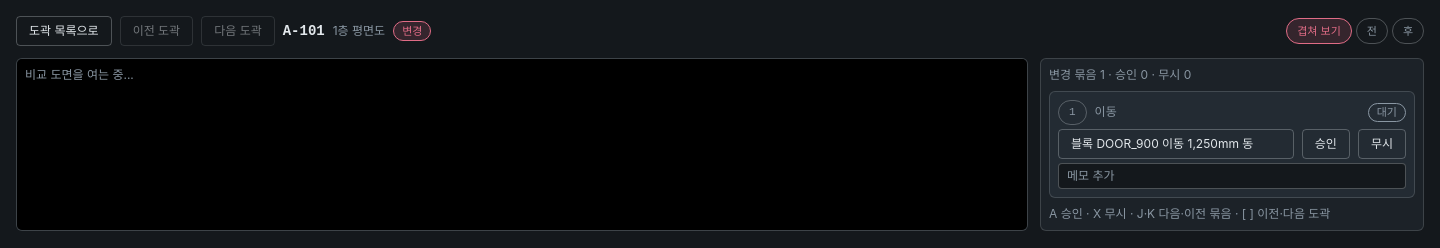
ReviewScreen › 승인 sends the decision and shows it on the chip
What coordinates should you click on to do the following:
click the button with test id "cluster-approve-1"
I would click on:
 (1326, 144)
Its box is top-left (1302, 129), bottom-right (1350, 159).
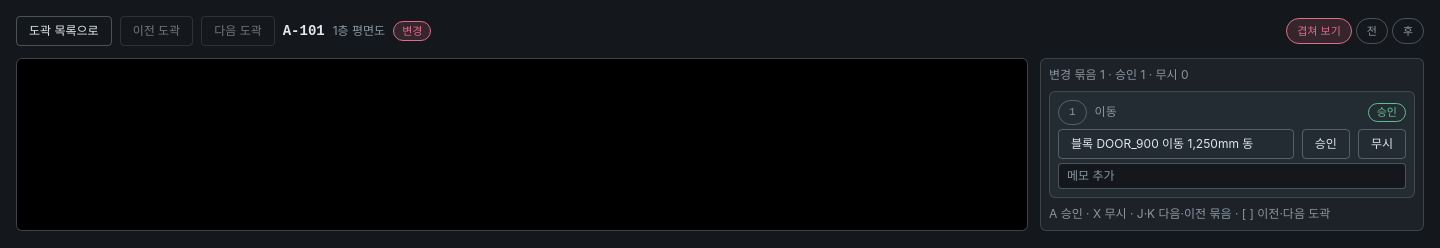
Result: the text with test id "cluster-decision-1" reads "승인" at top-left (1377, 105), bottom-right (1397, 119)
